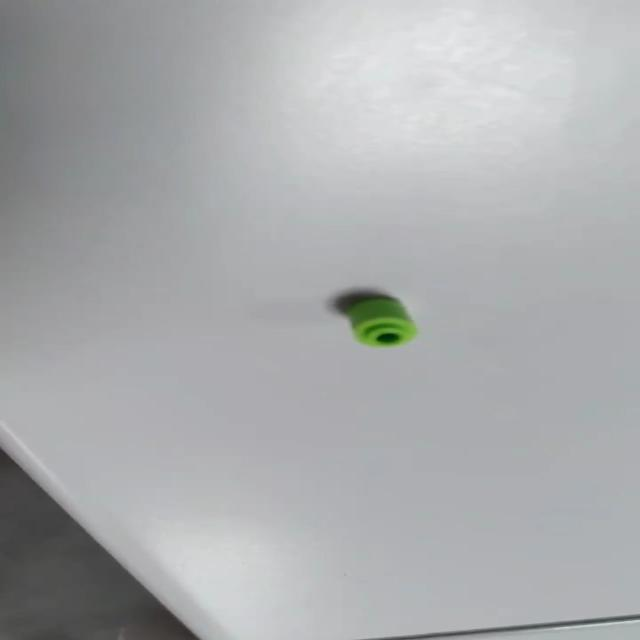S1x1x1: (337, 292, 420, 350)
